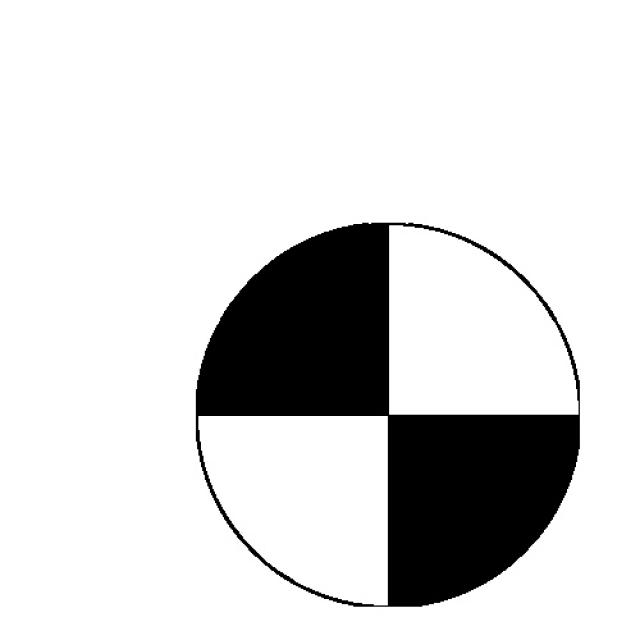Marcadores: (197, 223, 581, 607)
